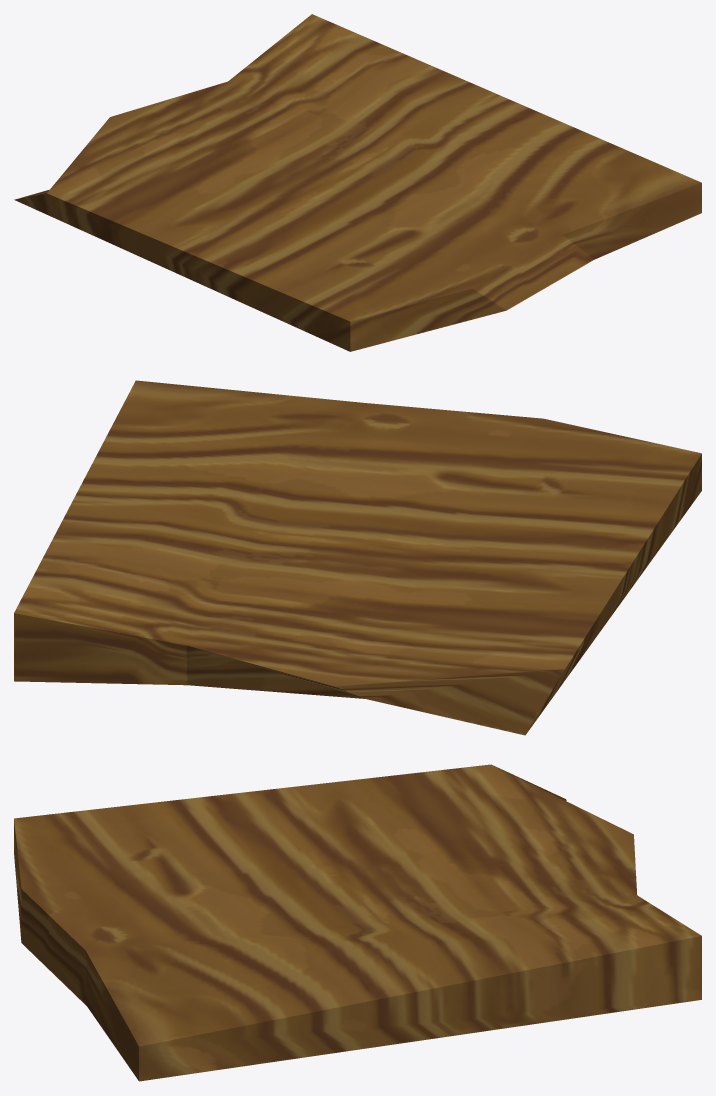
File: plank1_2x2.glb
3 renders of one model, top to bottom at view 1: azimuth 30°, elevation 25°; view 2: azimuth 150°, elevation 25°; view 3: azimuth 270°, elevation 25°, orthographic. The views are drawn at different scales.
Visible parts, largest first — view 1: PLanks_square:.002; view 2: PLanks_square:.002; view 3: PLanks_square:.002.
Part boxes in pixels (left/top/right/bottom): PLanks_square:.002: left=14, top=14, right=701, bottom=351; PLanks_square:.002: left=14, top=380, right=701, bottom=735; PLanks_square:.002: left=14, top=764, right=701, bottom=1081.
Bounding box in the file's own units: 2.87 × 0.303 × 2.95.
1 material, 1 textured.
